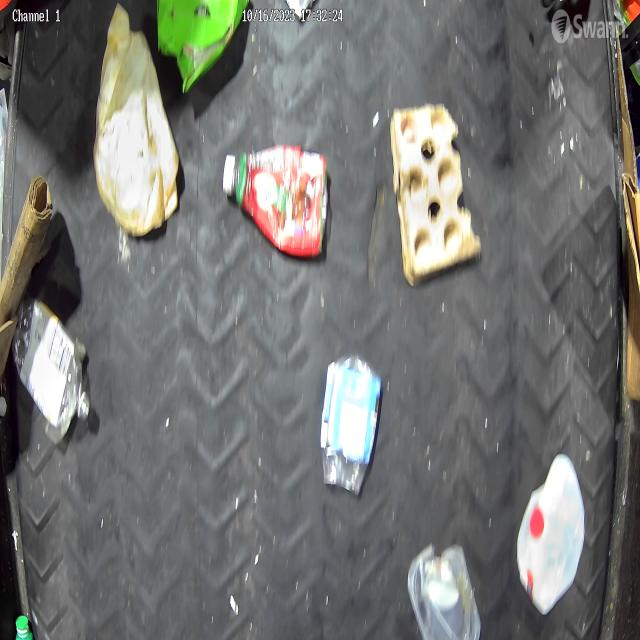milk_jug: (517, 455, 588, 615)
non_white_jug: (219, 146, 331, 266)
plastic_bottle: (11, 301, 95, 442)
